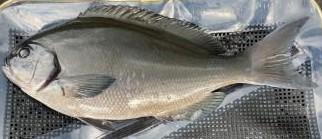fish: (4, 1, 320, 125)
